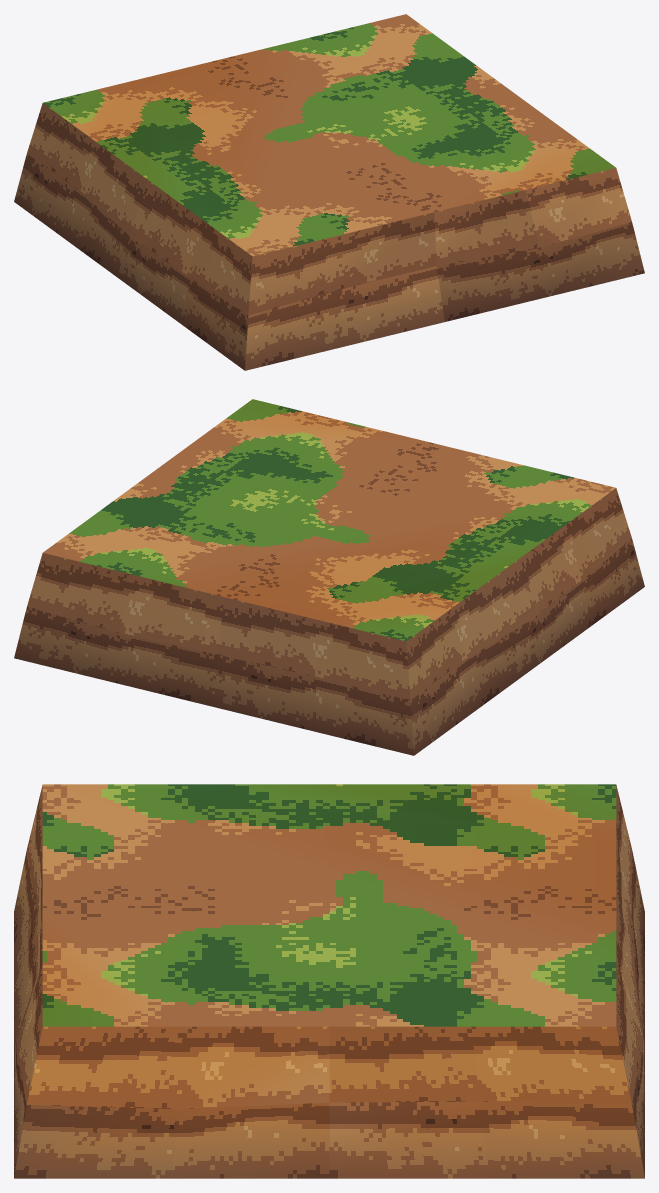
File: land.terrace__jungle.glb
The picture shows the model from 3 angles, top to bottom: view 1: azimuth 30°, elevation 25°; view 2: azimuth 150°, elevation 25°; view 3: azimuth 270°, elevation 25°; orthographic projection. The views are drawn at different scales.
Parts seen in each view (by area): view 1: kit_terrace; view 2: kit_terrace; view 3: kit_terrace.
Boxes of the visible parts, left/top/right/bottom form: kit_terrace: left=14, top=14, right=644, bottom=370; kit_terrace: left=14, top=399, right=644, bottom=755; kit_terrace: left=14, top=784, right=644, bottom=1178.
Bounding box in the file's own units: 8.8 × 2.15 × 8.8.
Materials: 2 (2 with a texture image).
